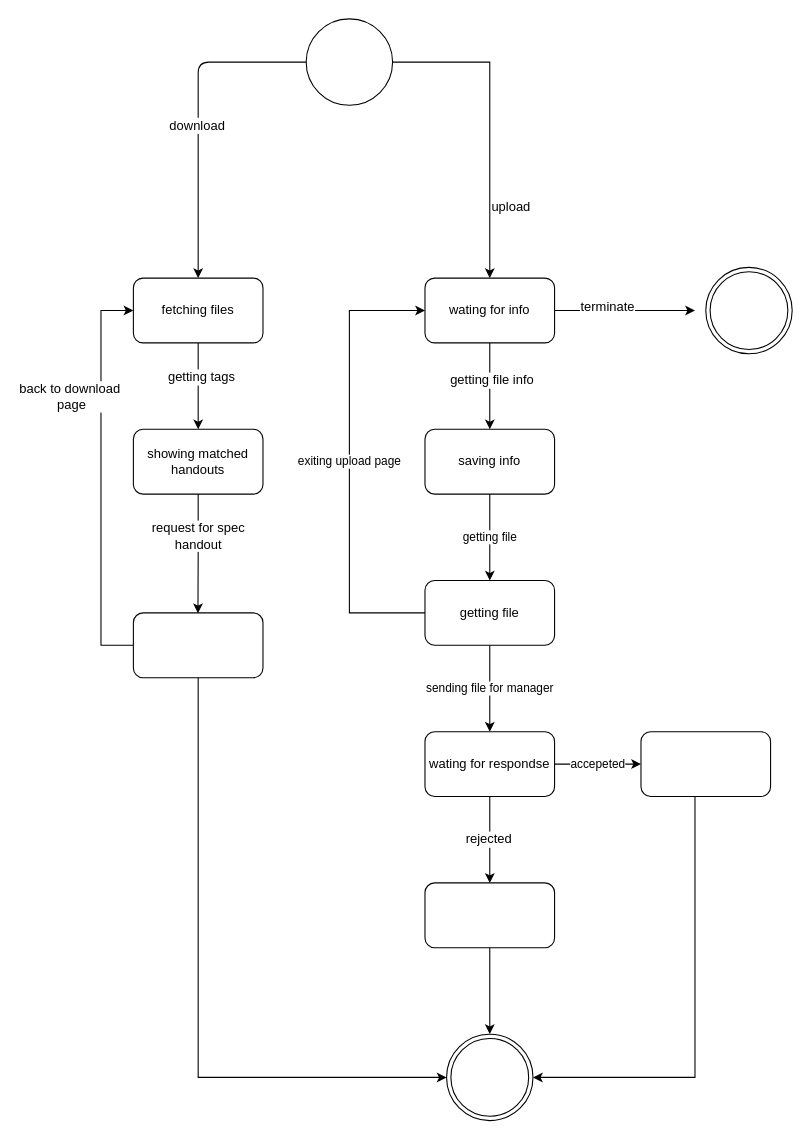
This 811x1140 diagram has some shape labels left out. The box of each missing label's shape, as (x1, y1, x2, y2) in pixels:
deleting: (424, 882, 555, 948)
saving file: (640, 731, 771, 796)
sending file: (132, 612, 263, 678)
